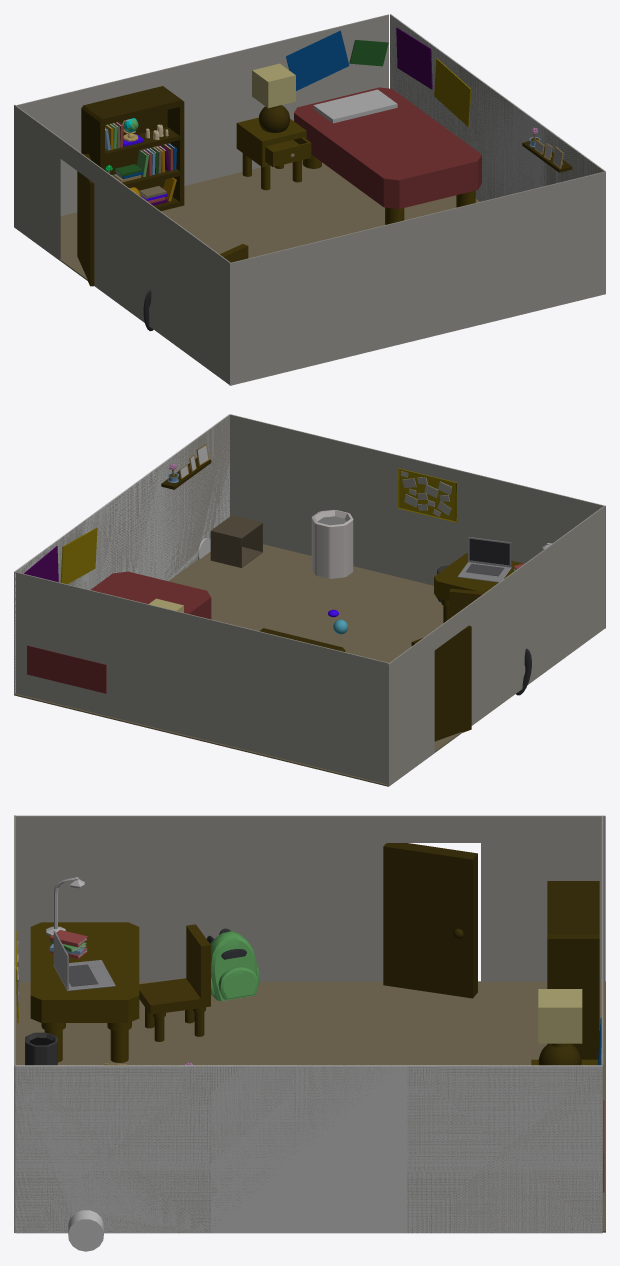
The model's file is MouseHouseLevelOneModel.fbx.
The picture shows the model from 3 angles, top to bottom: view 1: azimuth 30°, elevation 25°; view 2: azimuth 150°, elevation 25°; view 3: azimuth 270°, elevation 25°; orthographic projection. The views are drawn at different scales.
Parts seen in each view (by area): view 1: Wall1, Wall2, Wall3, Bed, Floor, Wall4, MouseHole, Bookcase, SideTable, pCube6, WholeDoor, LampShade (+4 smaller); view 2: Wall3, Wall1, Wall2, Floor, MouseHole, Wall4, Bed, WholeDoor, Laundry_hamper, MoveableBox, pCube3, pCube8 (+4 smaller); view 3: Wall4, Wall2, Floor, MouseHole, WholeDoor, Desk, Bookcase, Chair, LampShade, pCube3, pCube30, MouseHoleCylinder (+6 smaller).
Boxes of the visible parts, x1=… form: Wall1: x1=229, y1=171, x2=605, y2=385; Wall2: x1=14, y1=105, x2=230, y2=384; Wall3: x1=16, y1=14, x2=388, y2=215; Bed: x1=294, y1=87, x2=481, y2=224; Floor: x1=59, y1=160, x2=479, y2=280; Wall4: x1=390, y1=14, x2=605, y2=201; MouseHole: x1=390, y1=14, x2=605, y2=201; Bookcase: x1=81, y1=86, x2=184, y2=210; SideTable: x1=236, y1=117, x2=311, y2=167; pCube6: x1=286, y1=30, x2=349, y2=90; WholeDoor: x1=77, y1=154, x2=94, y2=286; LampShade: x1=252, y1=63, x2=295, y2=108; Wall3: x1=16, y1=572, x2=389, y2=784; Wall1: x1=230, y1=414, x2=605, y2=628; Wall2: x1=387, y1=506, x2=604, y2=786; Floor: x1=14, y1=544, x2=462, y2=786; MouseHole: x1=14, y1=415, x2=229, y2=692; Wall4: x1=14, y1=414, x2=229, y2=693; Bed: x1=27, y1=571, x2=211, y2=693; WholeDoor: x1=411, y1=625, x2=471, y2=741; Laundry_hamper: x1=311, y1=510, x2=353, y2=578; MoveableBox: x1=210, y1=515, x2=262, y2=567; pCube3: x1=457, y1=537, x2=511, y2=582; pCube8: x1=397, y1=468, x2=457, y2=522; Wall4: x1=15, y1=1065, x2=602, y2=1233; Wall2: x1=15, y1=815, x2=605, y2=981; Floor: x1=15, y1=981, x2=605, y2=1232; MouseHole: x1=15, y1=1065, x2=602, y2=1233; WholeDoor: x1=383, y1=843, x2=477, y2=998; Desk: x1=30, y1=922, x2=139, y2=1022; Bookcase: x1=547, y1=881, x2=599, y2=1059; Chair: x1=139, y1=924, x2=210, y2=1041; LampShade: x1=538, y1=989, x2=582, y2=1043; pCube3: x1=53, y1=930, x2=115, y2=991; pCube30: x1=210, y1=931, x2=257, y2=1001; MouseHoleCylinder: x1=68, y1=1210, x2=103, y2=1251.
Size of the model in its own units: 141 by 44.01 by 133.
